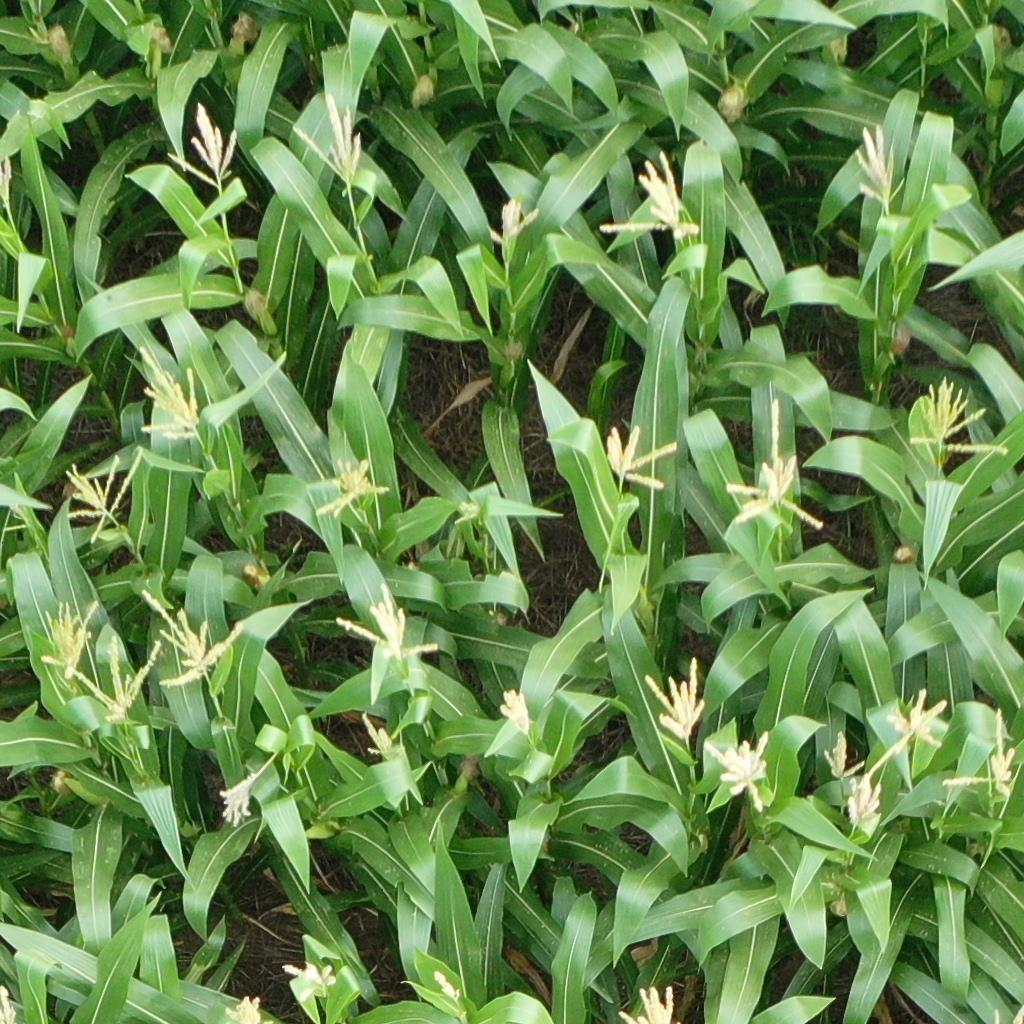Tassel: (724, 398, 825, 532), (595, 148, 703, 244), (142, 588, 244, 689), (58, 445, 145, 549), (335, 582, 439, 665), (907, 374, 1009, 458), (70, 634, 164, 720), (943, 707, 1019, 797), (162, 103, 238, 189), (138, 346, 204, 444), (288, 98, 363, 184), (700, 730, 773, 811), (605, 424, 680, 494), (642, 657, 705, 738), (849, 124, 907, 209), (40, 598, 99, 680), (315, 457, 391, 520), (882, 688, 949, 753), (218, 769, 263, 829), (617, 985, 683, 1024), (486, 201, 539, 248), (820, 730, 868, 777), (844, 775, 884, 830), (280, 960, 336, 999), (218, 993, 272, 1024), (497, 689, 531, 737), (362, 713, 393, 760), (2, 501, 32, 535), (451, 498, 485, 528), (432, 972, 464, 1003), (1, 983, 19, 1024), (1, 152, 14, 206)
